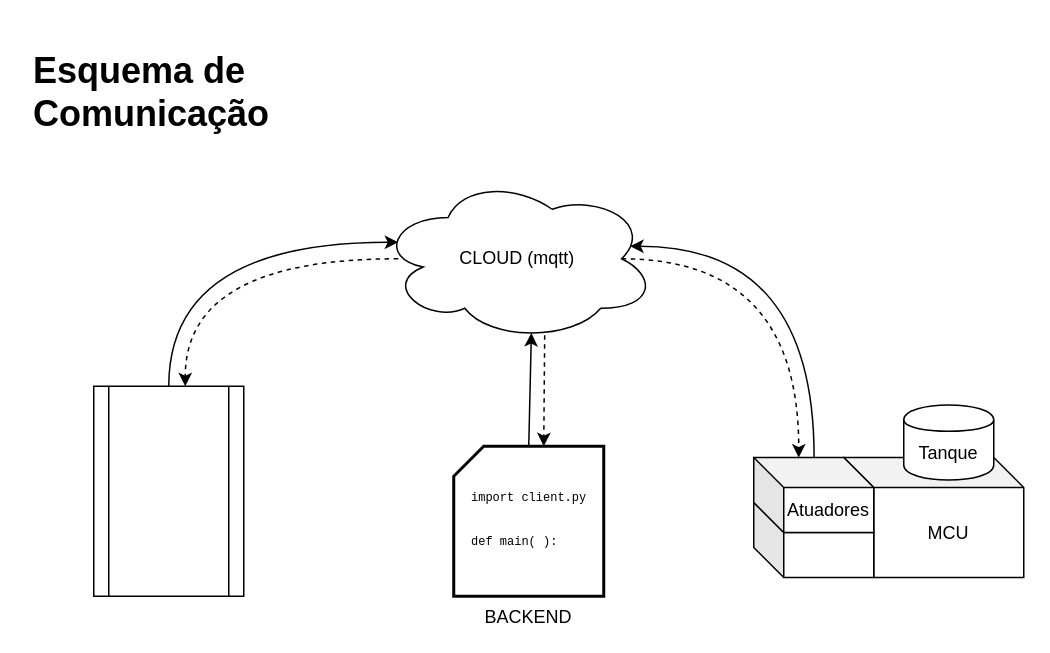
Some shapes in this 1050 by 653 pixel diagram are drawn without their labels. The shapes that lost their labels are listed below. From the top down, each one's centre as x and y in pixels, then its label:
the point at 168,490: APP ANDROID
the point at 813,539: Sensores
